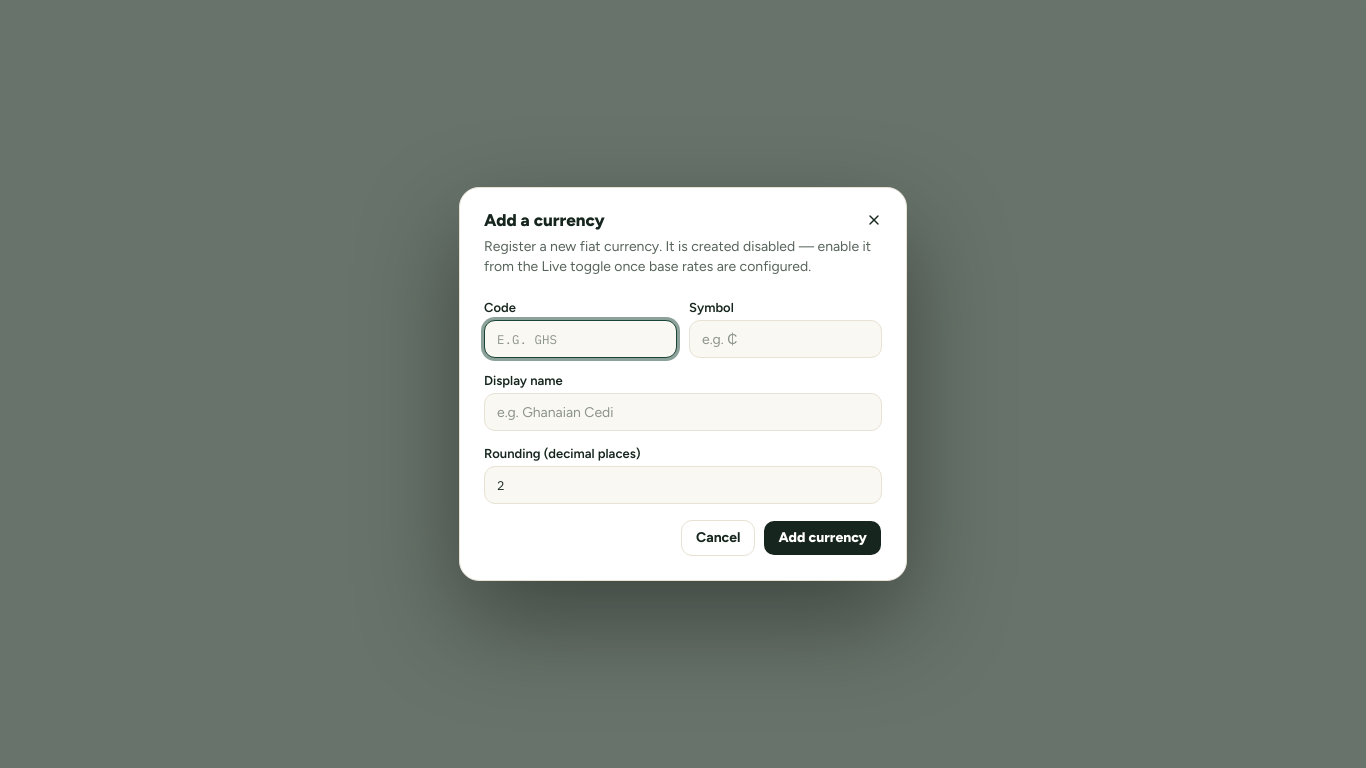
Test: AddCurrencyDialog › blocks submit and surfaces a validation error for a blank display name
The width and height of the screenshot is (1366, 768).
Type "ghs" into the field labelled "Code".
click(580, 339); type("ghs")  # box [484,320,677,358]
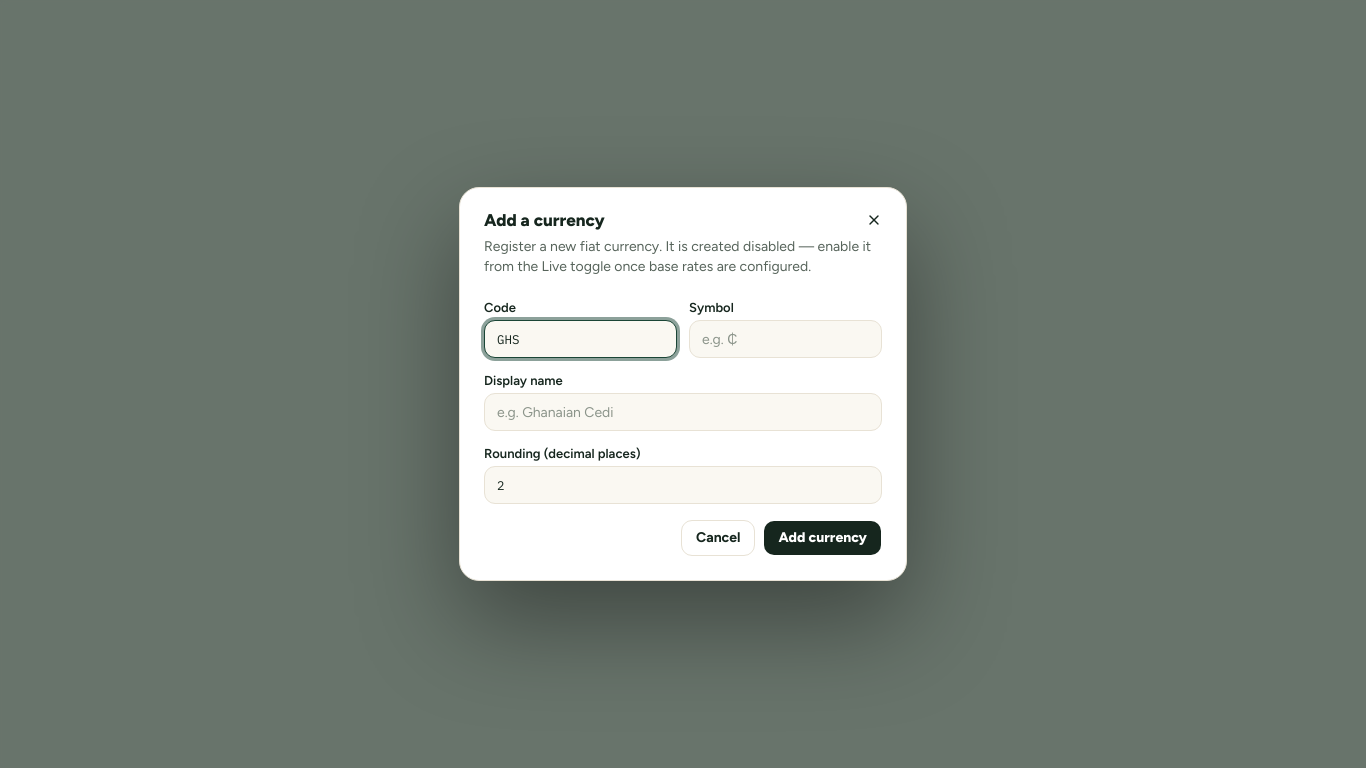
Type "C" into the field labelled "Symbol".
click(786, 339); type("C")  # box [689,320,882,358]
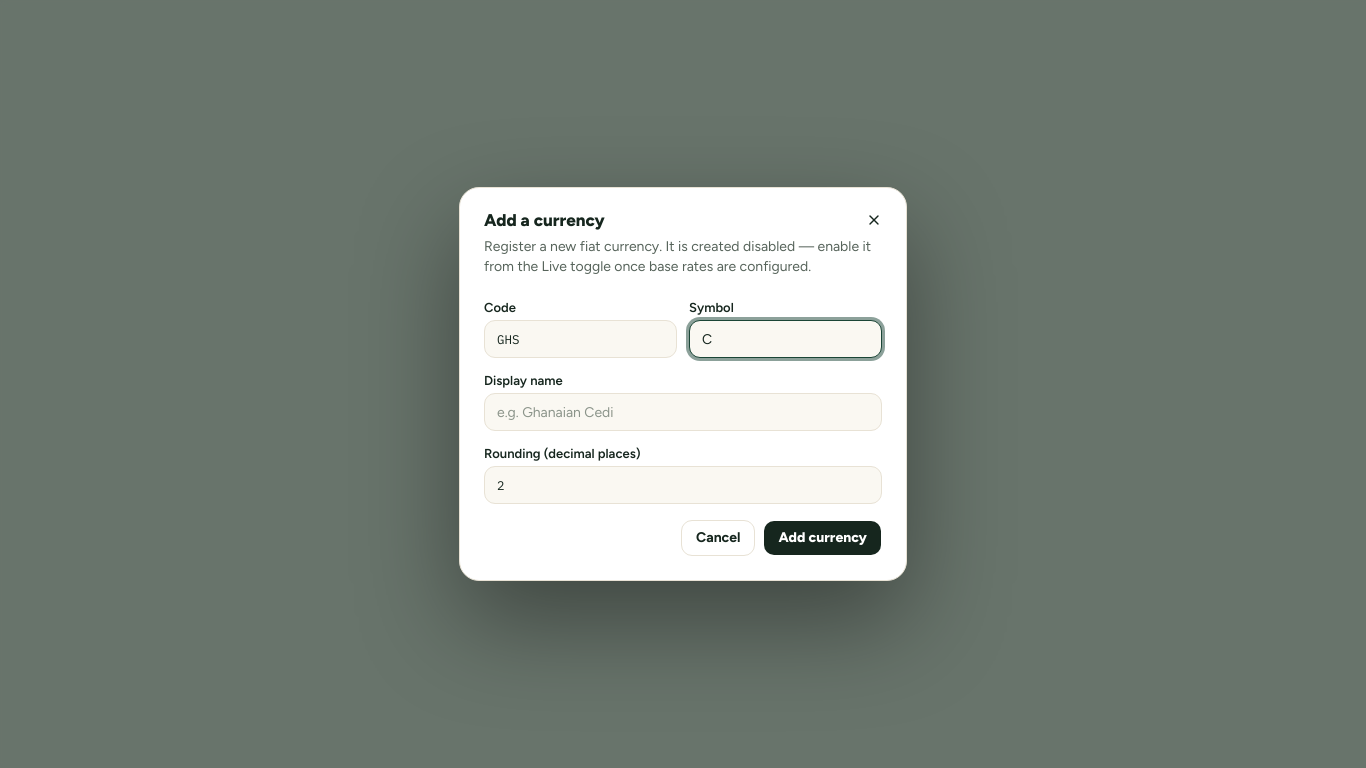
Click the button "Add currency".
click(823, 538)  # box [764,520,882,556]
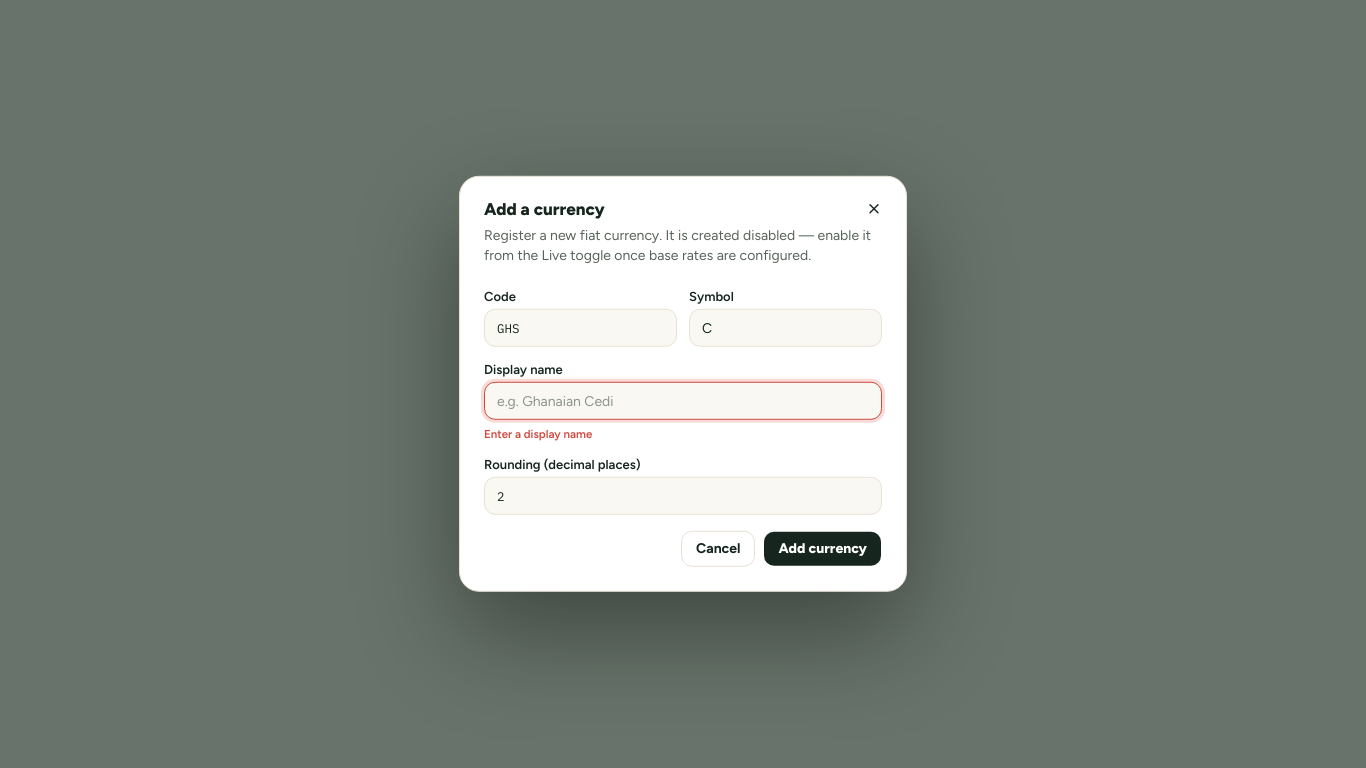
Result: the text "Enter a display name" is shown at [484,427,592,441]
